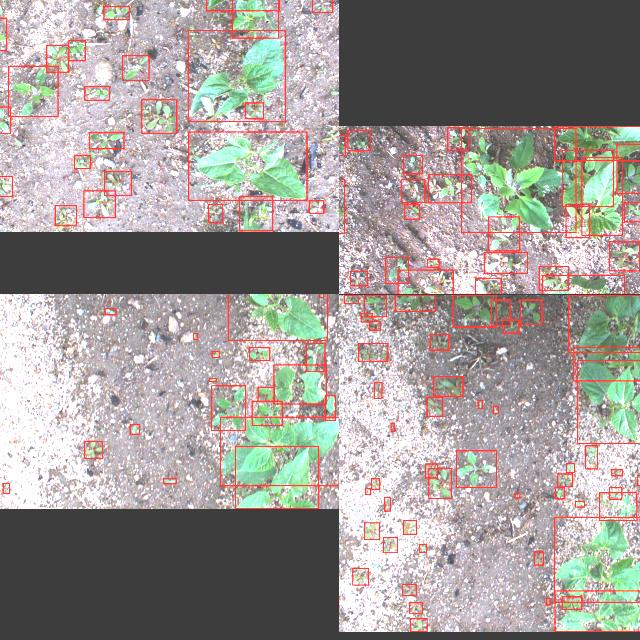crop: (188, 30, 284, 121), (220, 416, 339, 485), (188, 132, 306, 200), (553, 517, 640, 602), (577, 360, 640, 443), (235, 447, 318, 509), (227, 294, 327, 341), (568, 294, 640, 351), (554, 590, 640, 631), (580, 157, 622, 235), (554, 125, 640, 160), (562, 150, 612, 206), (573, 347, 640, 381), (272, 364, 326, 404), (232, 0, 278, 38), (542, 274, 623, 294)
weed: (461, 128, 575, 232), (7, 66, 57, 116), (456, 450, 496, 488), (211, 386, 245, 430), (452, 295, 496, 327), (397, 269, 452, 294), (238, 196, 272, 232), (616, 143, 640, 192), (428, 174, 470, 202), (142, 99, 176, 133), (598, 492, 636, 520), (488, 217, 518, 251), (484, 252, 526, 274), (84, 190, 115, 218), (608, 242, 638, 270), (565, 205, 589, 238), (251, 400, 281, 426), (538, 266, 568, 290), (428, 468, 450, 498), (394, 295, 434, 311), (122, 56, 148, 80), (104, 172, 130, 196), (384, 257, 408, 283), (433, 376, 462, 396), (88, 133, 124, 149), (46, 46, 68, 72), (306, 342, 324, 372), (357, 343, 387, 361), (490, 299, 510, 325), (447, 126, 468, 150), (402, 180, 424, 202), (364, 294, 386, 316), (520, 300, 540, 324), (346, 130, 369, 150), (474, 277, 500, 294), (54, 206, 76, 226), (402, 154, 422, 173), (103, 6, 129, 20), (623, 202, 640, 222), (84, 86, 108, 100), (68, 40, 84, 60), (426, 396, 442, 416), (429, 334, 448, 350), (244, 103, 262, 119), (84, 442, 102, 458), (352, 568, 368, 586), (561, 596, 581, 610), (349, 270, 366, 286), (248, 348, 270, 360), (585, 446, 597, 468), (0, 107, 10, 133), (257, 386, 273, 402), (208, 205, 222, 223), (324, 396, 334, 420), (404, 204, 418, 220), (364, 523, 378, 539), (410, 618, 426, 632), (312, 0, 332, 11), (0, 177, 11, 197), (308, 200, 324, 213), (402, 520, 416, 534), (382, 538, 396, 552), (74, 156, 90, 168), (502, 320, 518, 332), (556, 474, 572, 486), (402, 584, 416, 596), (425, 464, 437, 478), (609, 487, 621, 499), (408, 603, 422, 613), (373, 382, 381, 398), (344, 295, 358, 303), (361, 312, 372, 322), (368, 320, 379, 330), (370, 478, 380, 489), (554, 488, 564, 498), (426, 259, 438, 267), (534, 552, 542, 564), (384, 497, 390, 511), (130, 424, 138, 434), (2, 484, 10, 494), (163, 478, 175, 484), (104, 308, 116, 314), (566, 463, 574, 472), (418, 544, 426, 552), (611, 469, 621, 475), (211, 351, 219, 357), (492, 406, 498, 414), (636, 475, 640, 485), (574, 502, 584, 506), (478, 399, 482, 408), (364, 488, 370, 494), (208, 378, 216, 382), (545, 598, 549, 606), (391, 422, 394, 432), (193, 333, 197, 339), (514, 494, 520, 498), (319, 294, 323, 297)
